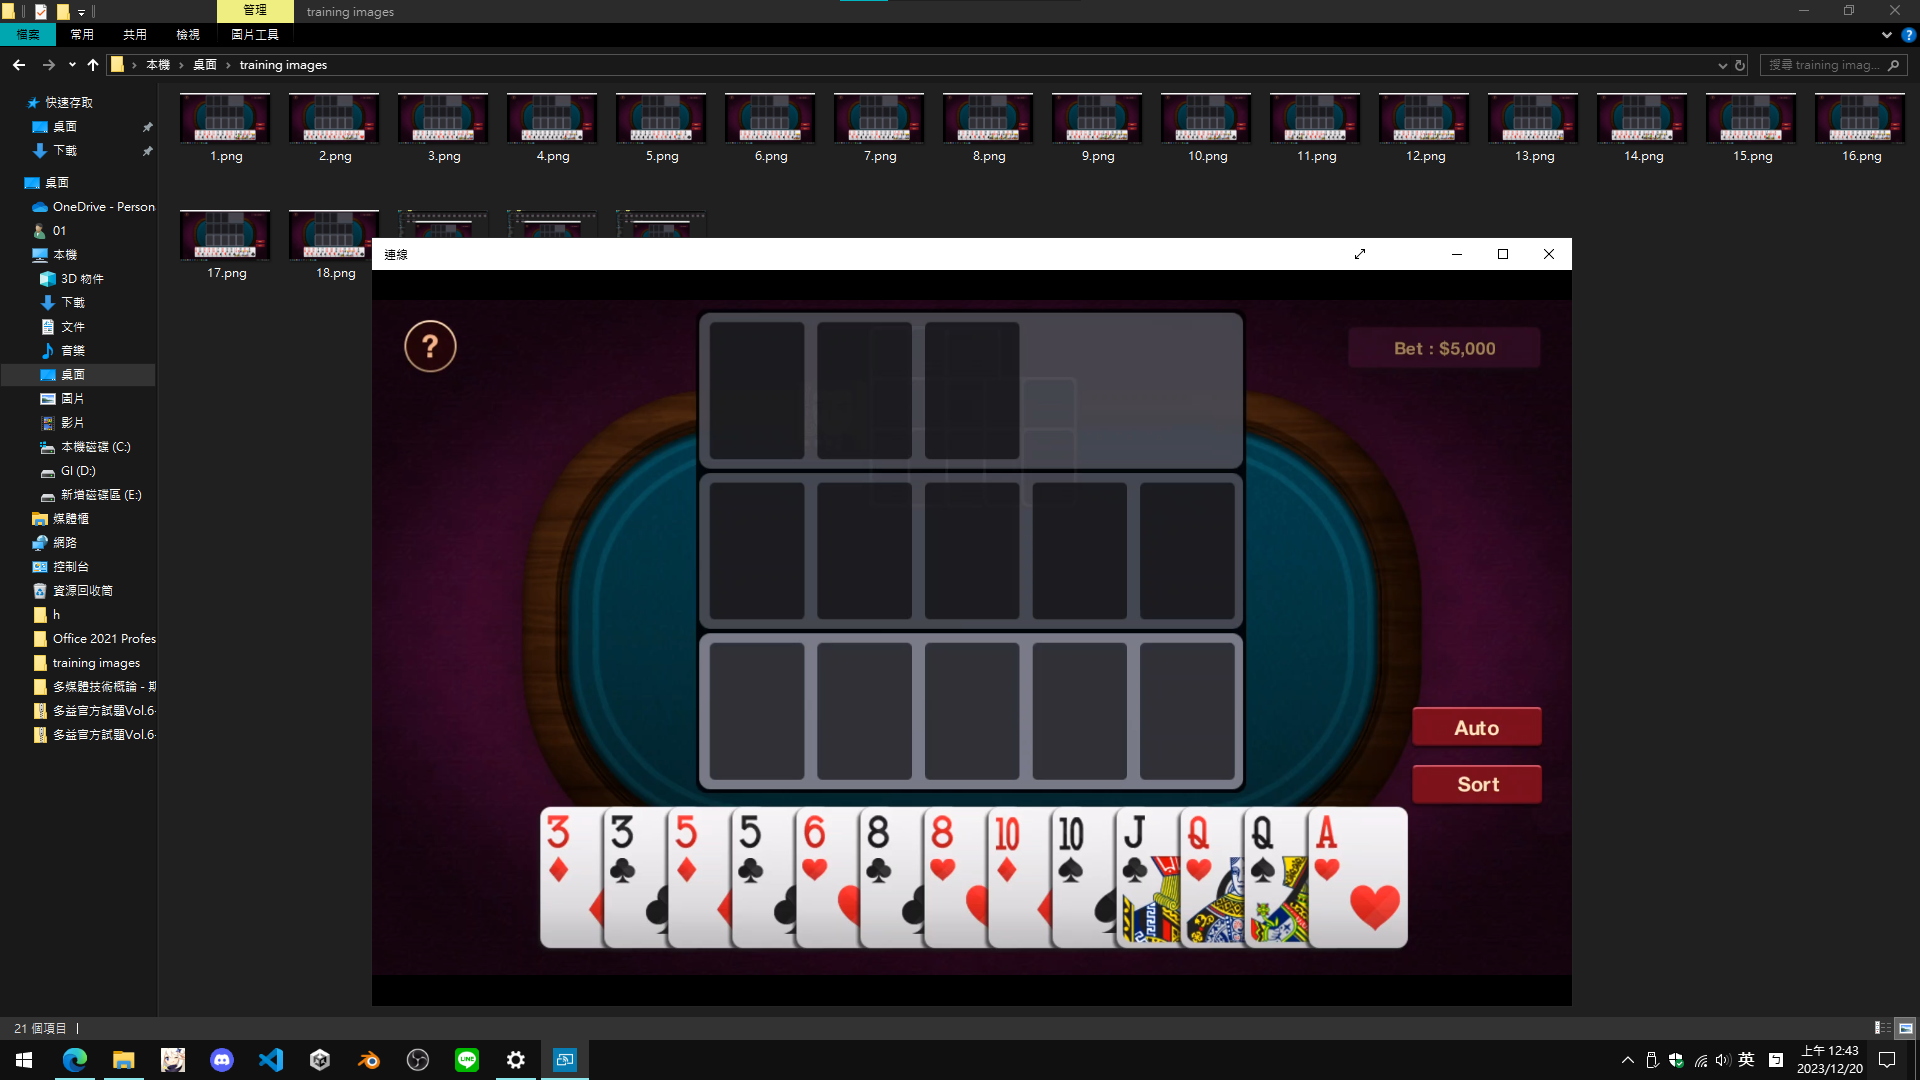10D: (992, 812, 1025, 889)
10S: (1056, 812, 1092, 890)
3C: (608, 811, 640, 888)
3D: (542, 810, 577, 886)
5C: (738, 812, 764, 888)
5D: (673, 811, 701, 885)
6H: (800, 811, 831, 885)
8C: (866, 812, 894, 887)
8H: (928, 811, 962, 886)
AH: (1313, 811, 1344, 886)
JC: (1122, 812, 1151, 888)
QH: (1186, 812, 1213, 887)
QS: (1248, 812, 1278, 889)
